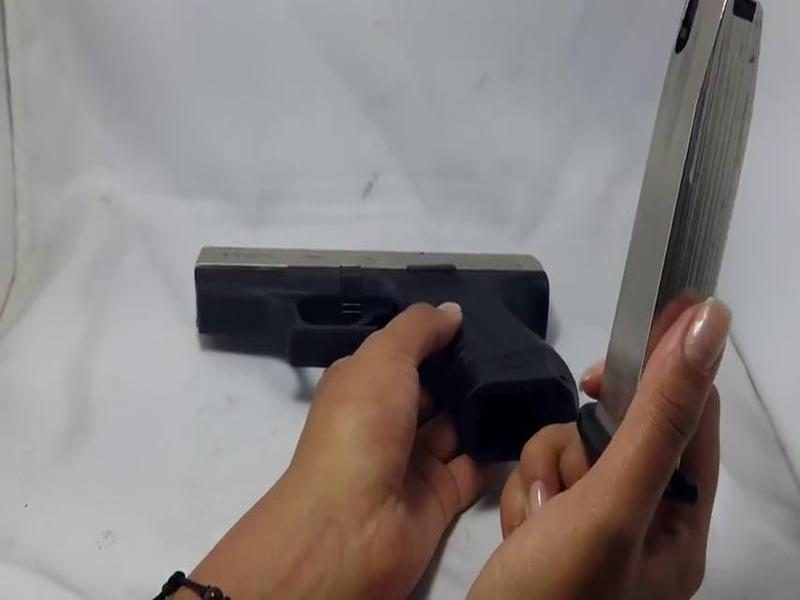Pistola: (187, 235, 588, 469)
